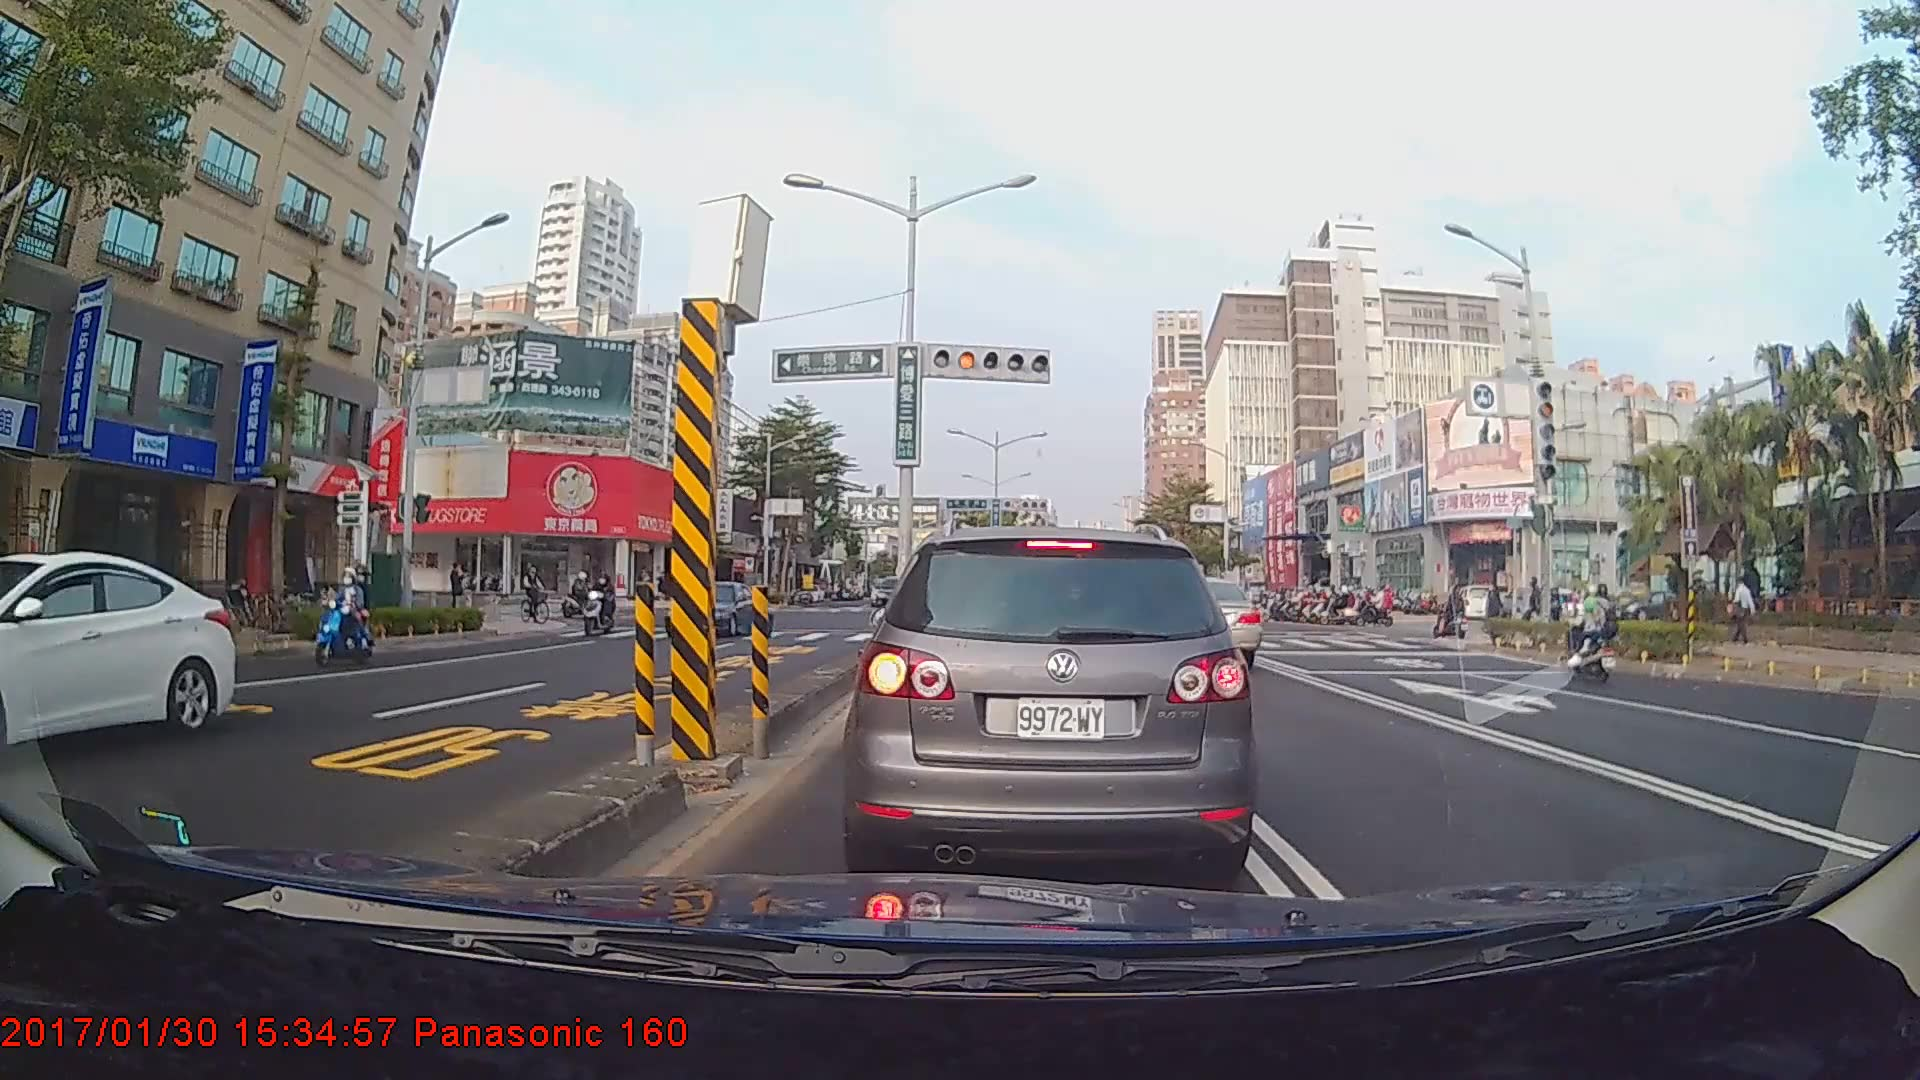pedestrian: (1730, 576, 1756, 645), (447, 563, 467, 620)
rider: (1560, 580, 1632, 684), (318, 569, 385, 666), (581, 565, 628, 641), (562, 566, 609, 619), (1435, 584, 1473, 640), (522, 566, 551, 627)
vehicle: (856, 503, 1251, 873), (0, 548, 235, 767), (663, 580, 763, 638)
